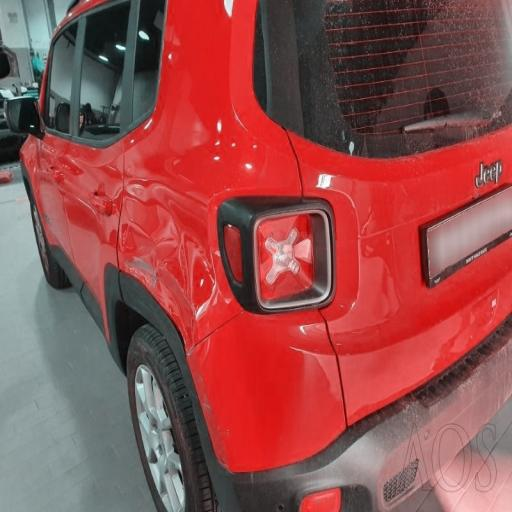dent: (96, 155, 268, 345)
scratch: (124, 216, 201, 336)
